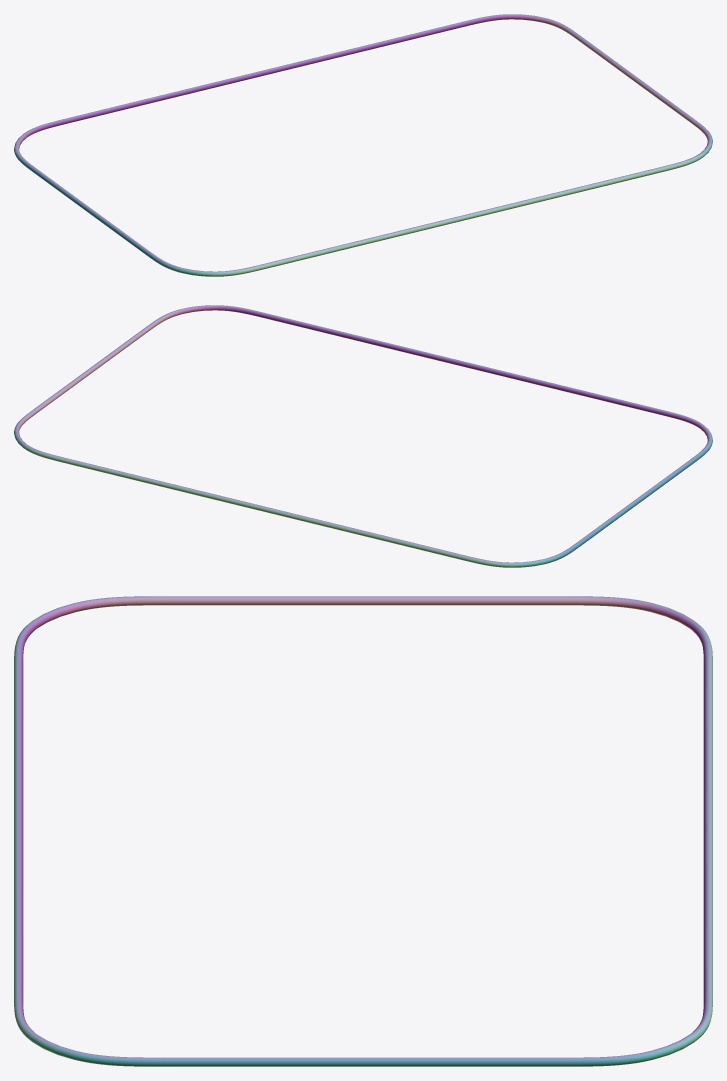
Rendered from card-edge-mesh.glb.
The picture shows the model from 3 angles, top to bottom: view 1: azimuth 30°, elevation 25°; view 2: azimuth 150°, elevation 25°; view 3: azimuth 270°, elevation 25°; orthographic projection. The views are drawn at different scales.
Parts seen in each view (by area): view 1: card-edge-mesh.center.export; view 2: card-edge-mesh.center.export; view 3: card-edge-mesh.center.export.
Boxes of the visible parts, x1=… form: card-edge-mesh.center.export: x1=14, y1=14, x2=712, y2=276; card-edge-mesh.center.export: x1=14, y1=305, x2=712, y2=567; card-edge-mesh.center.export: x1=14, y1=596, x2=712, y2=1066.
Size of the model in its own units: 1.92 by 0.016 by 1.22.
